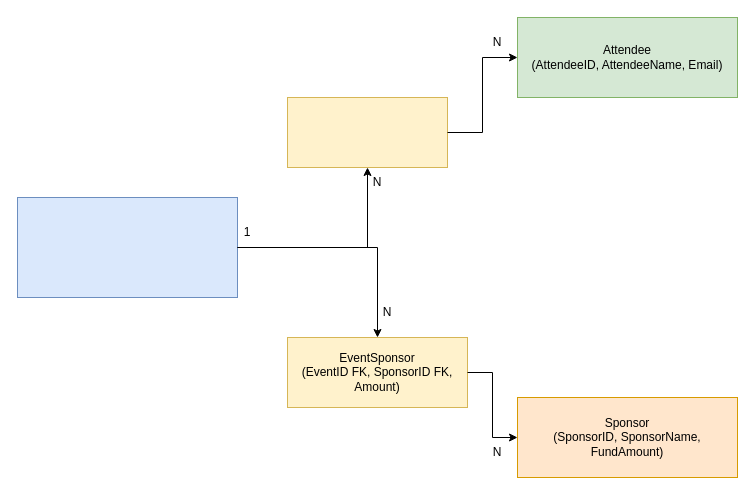
Some shapes in this 755 by 495 pixel diagram are drawn without their labels. The centre of each missing label's shape, as x and y in pixels:
"Event (EventID, EventName, EventDate, Location, Budget)" goes at (x=127, y=247).
"EventAttendee (EventID FK, AttendeeID FK)" goes at (x=367, y=132).
